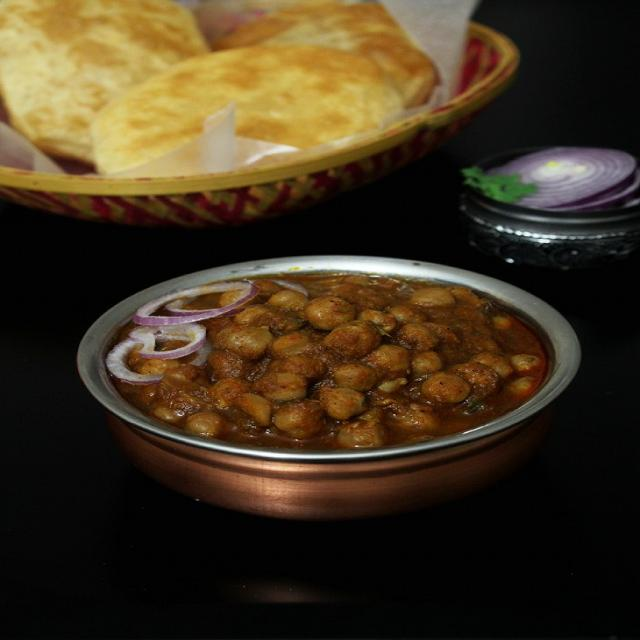Bhatura: (93, 46, 403, 177), (0, 0, 208, 164), (192, 0, 438, 110)
Chole: (104, 272, 550, 454)
